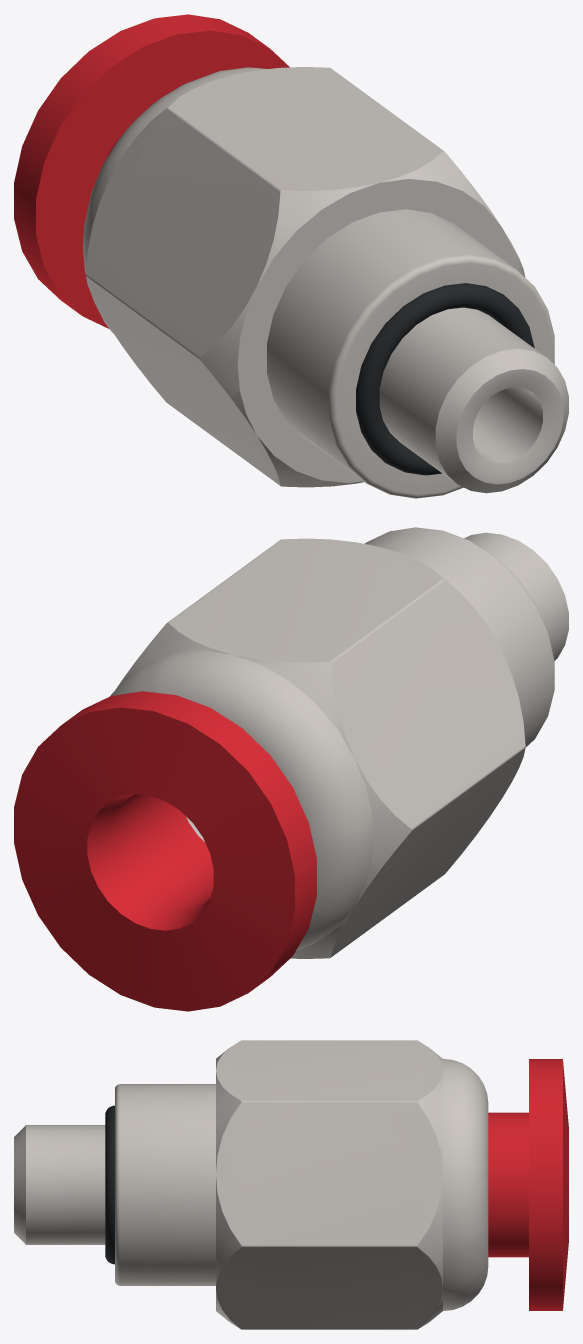
File: Straight Pneumatic Fitting.glb
The picture shows the model from 3 angles, top to bottom: view 1: azimuth 30°, elevation 25°; view 2: azimuth 150°, elevation 25°; view 3: azimuth 270°, elevation 25°; orthographic projection. The views are drawn at different scales.
Parts seen in each view (by area): view 1: 276-8636-001 Simplified Model; view 2: 276-8636-001 Simplified Model; view 3: 276-8636-001 Simplified Model.
Boxes of the visible parts, bbox=[...] form: 276-8636-001 Simplified Model: bbox=[14, 14, 568, 498]; 276-8636-001 Simplified Model: bbox=[14, 527, 568, 1011]; 276-8636-001 Simplified Model: bbox=[14, 1040, 568, 1329].
Size of the model in its own units: 0.0115 by 0.01 by 0.022.
